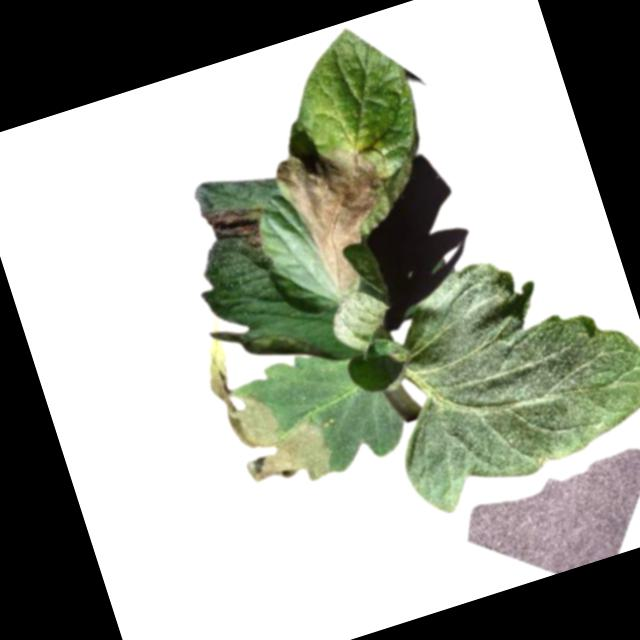Late_blight: (272, 131, 412, 299), (204, 340, 339, 502), (201, 194, 275, 261)
healthy: (351, 220, 640, 523)
